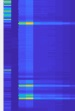leak: (15, 26, 37, 79), (16, 1, 35, 21), (16, 101, 35, 108)
